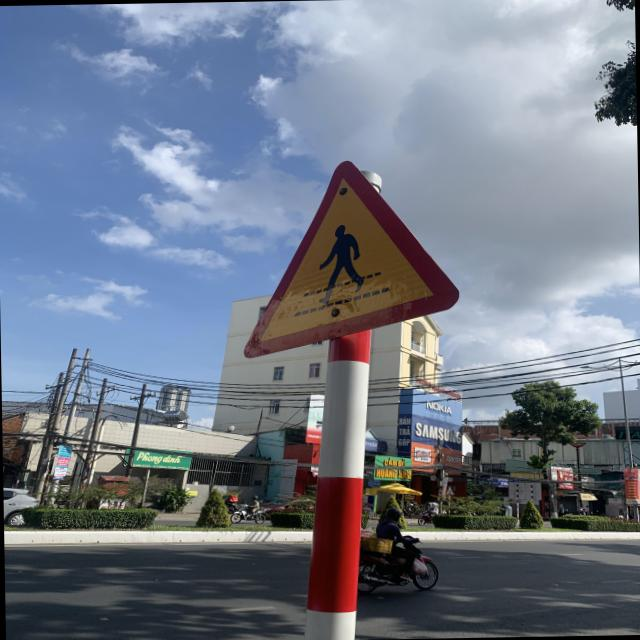Duong_Nguoi_Di_Bo_Sang_Ngang: (242, 158, 460, 359)
